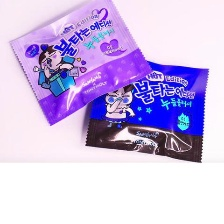snack: (2, 0, 156, 130), (78, 52, 214, 165)
